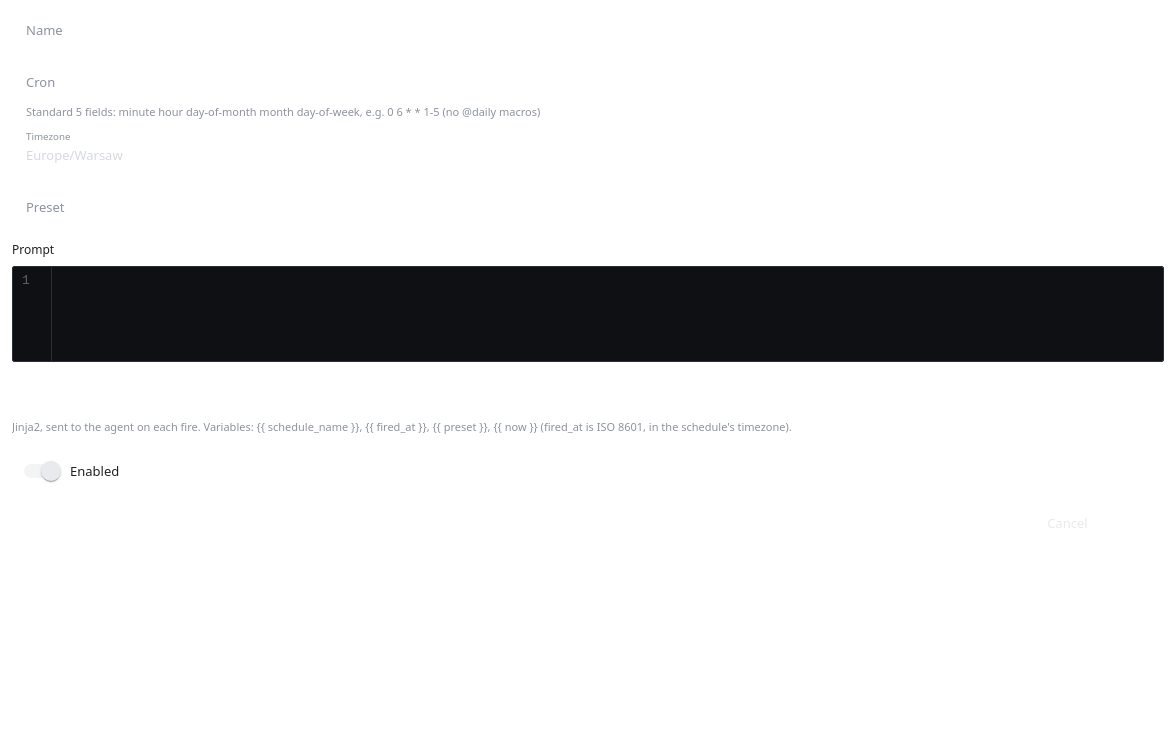
Test: defaults › defaults: falls back to a short zone list when Intl.supportedValuesOf is missing
What coordinates should you click on to do the following:
click the dropdown named "Timezone"
I would click on:
 (74, 155)
Its box is top-left (26, 146), bottom-right (123, 164).
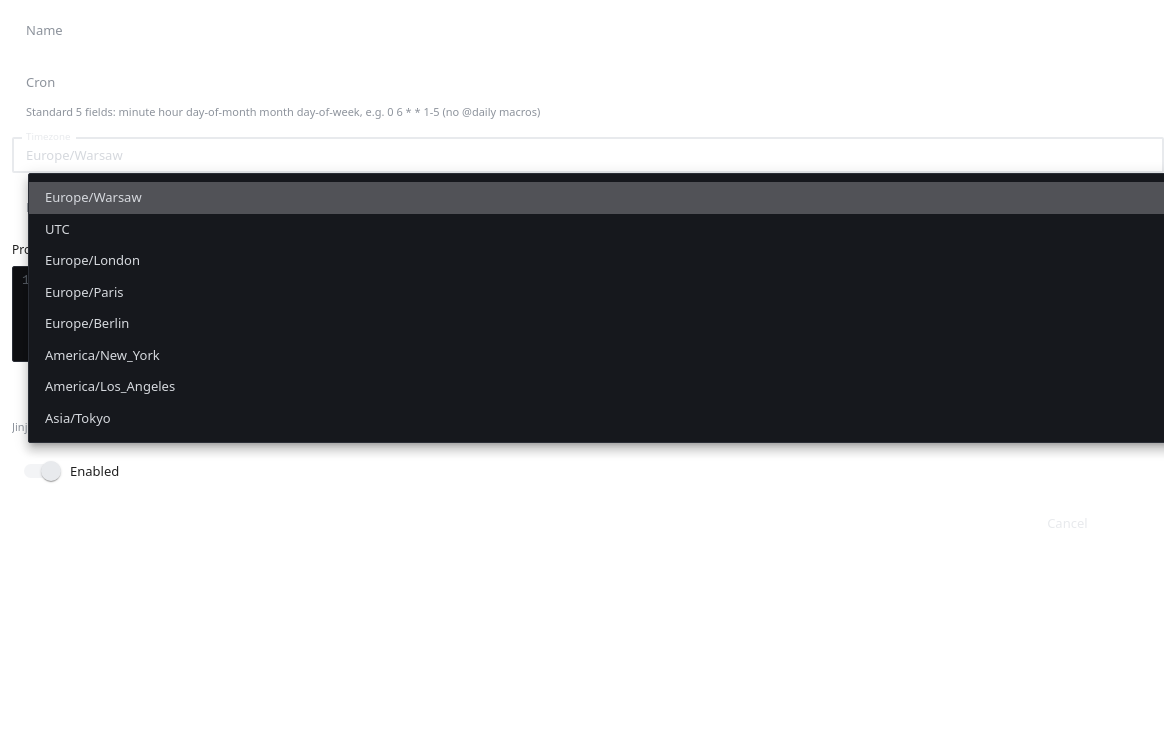
Expected: the option "UTC" is shown, top-left (45, 220), bottom-right (70, 238)
